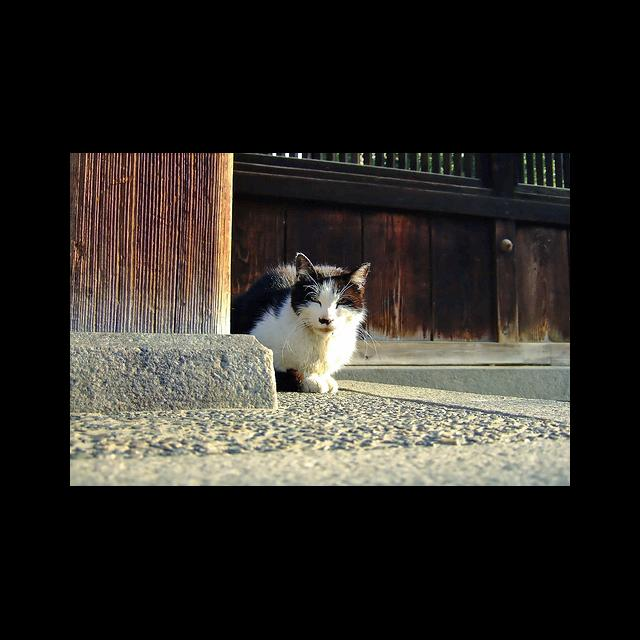animals: (296, 254, 369, 324)
